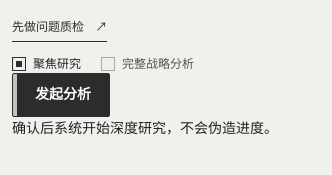
Test: AnalysisLaunchPanel question clarifier › degrades honestly when the clarifier is unavailable
Click the button "先做问题质检 ↗" at (60,27), box 12,12 -> 107,42
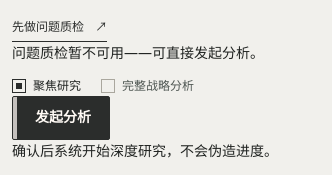
Check: the text "问题质检暂不可用——可直接发起分析。" is shown, box 12,43 -> 264,62
